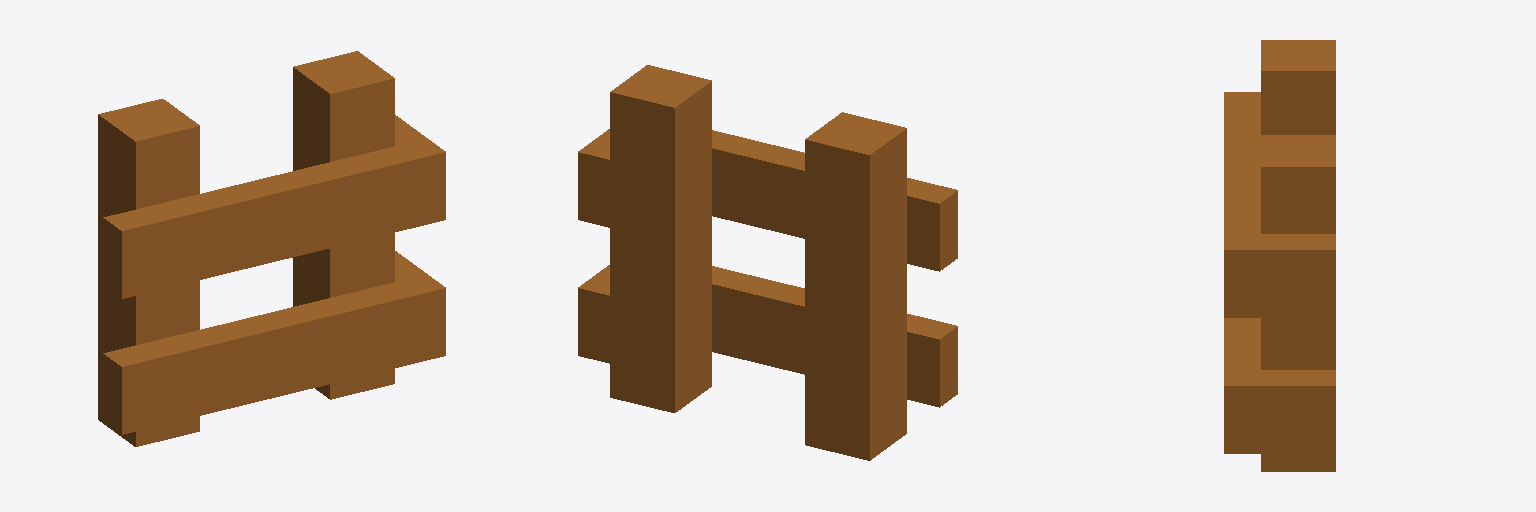
3 renders of one model, left to right at view 1: azimuth 30°, elevation 25°; view 2: azimuth 150°, elevation 25°; view 3: azimuth 270°, elevation 25°, orthographic.
Visible parts, largest first — view 1: object 1; view 2: object 1; view 3: object 1.
Boxes of the visible parts, x1=… form: object 1: x1=98, y1=51, x2=445, y2=446; object 1: x1=578, y1=65, x2=957, y2=460; object 1: x1=1224, y1=40, x2=1335, y2=471.
Size of the model in its own units: 1 by 0.9 by 0.3.
1 materials, 1 textured.